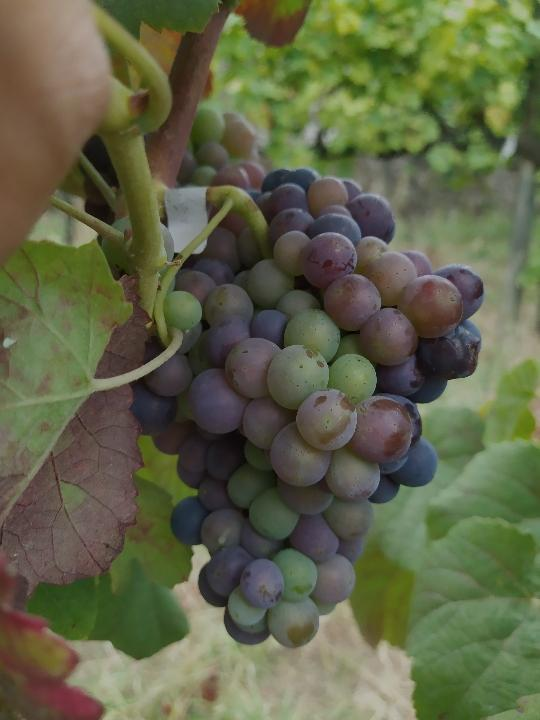grape: (128, 164, 488, 652)
